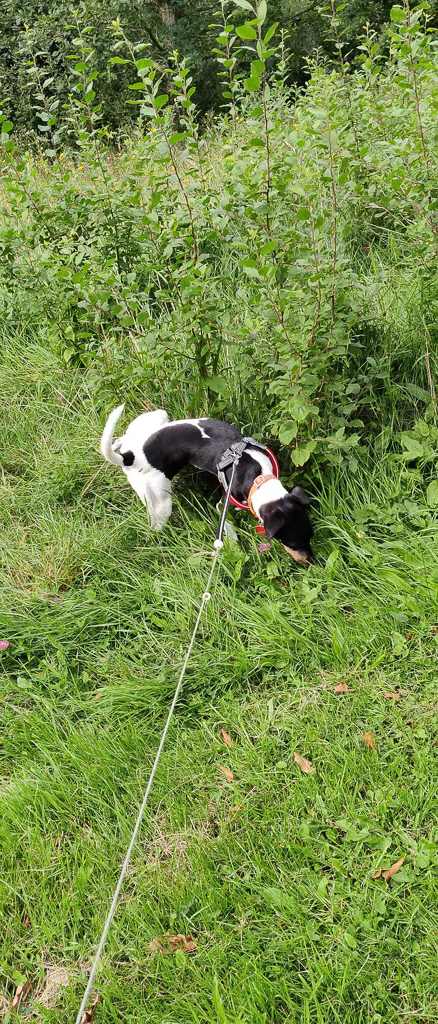Dog: (91, 393, 335, 576)
